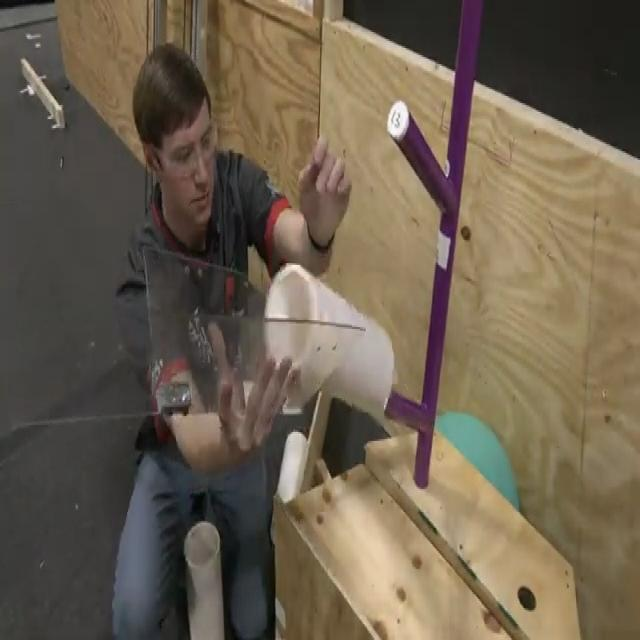Coral: (262, 266, 394, 421), (184, 522, 227, 640)
